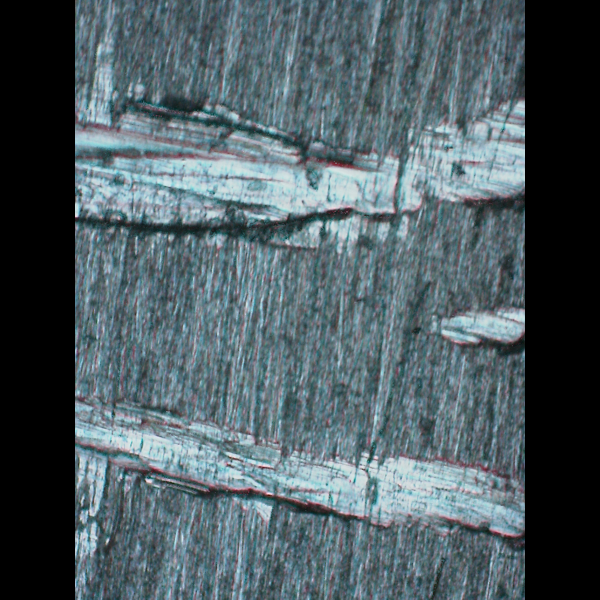d: (75, 376, 523, 557), (75, 94, 525, 238), (421, 292, 525, 366)
